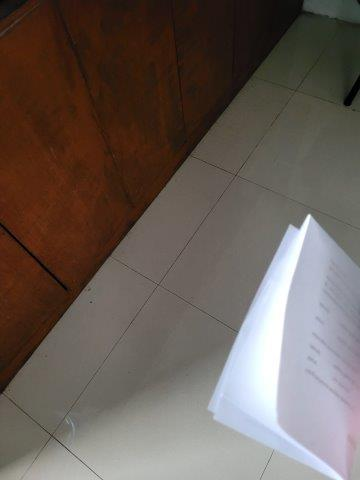kertas: (208, 213, 360, 479)
